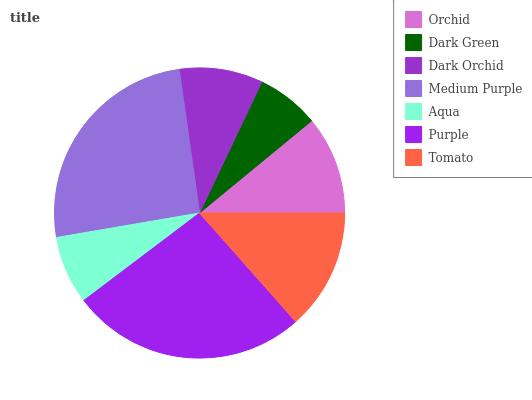legend: (393, 0, 532, 177)
sector: (81, 213, 296, 358), (54, 69, 199, 238), (198, 213, 346, 322), (199, 79, 311, 213), (201, 122, 346, 212), (54, 212, 199, 299), (181, 66, 263, 213)
